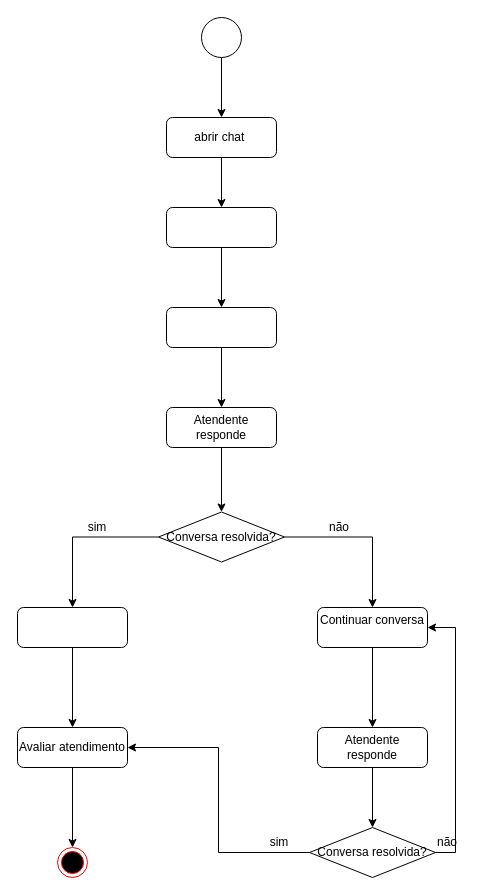
This 495x895 diagram has some shape labels left out. Each missing label, with the centre of its shape:
"Encerrar conversa" goes at (72,627).
"Iniciar conversa" goes at (221,327).
"Selecionar assunto" goes at (221,227).
